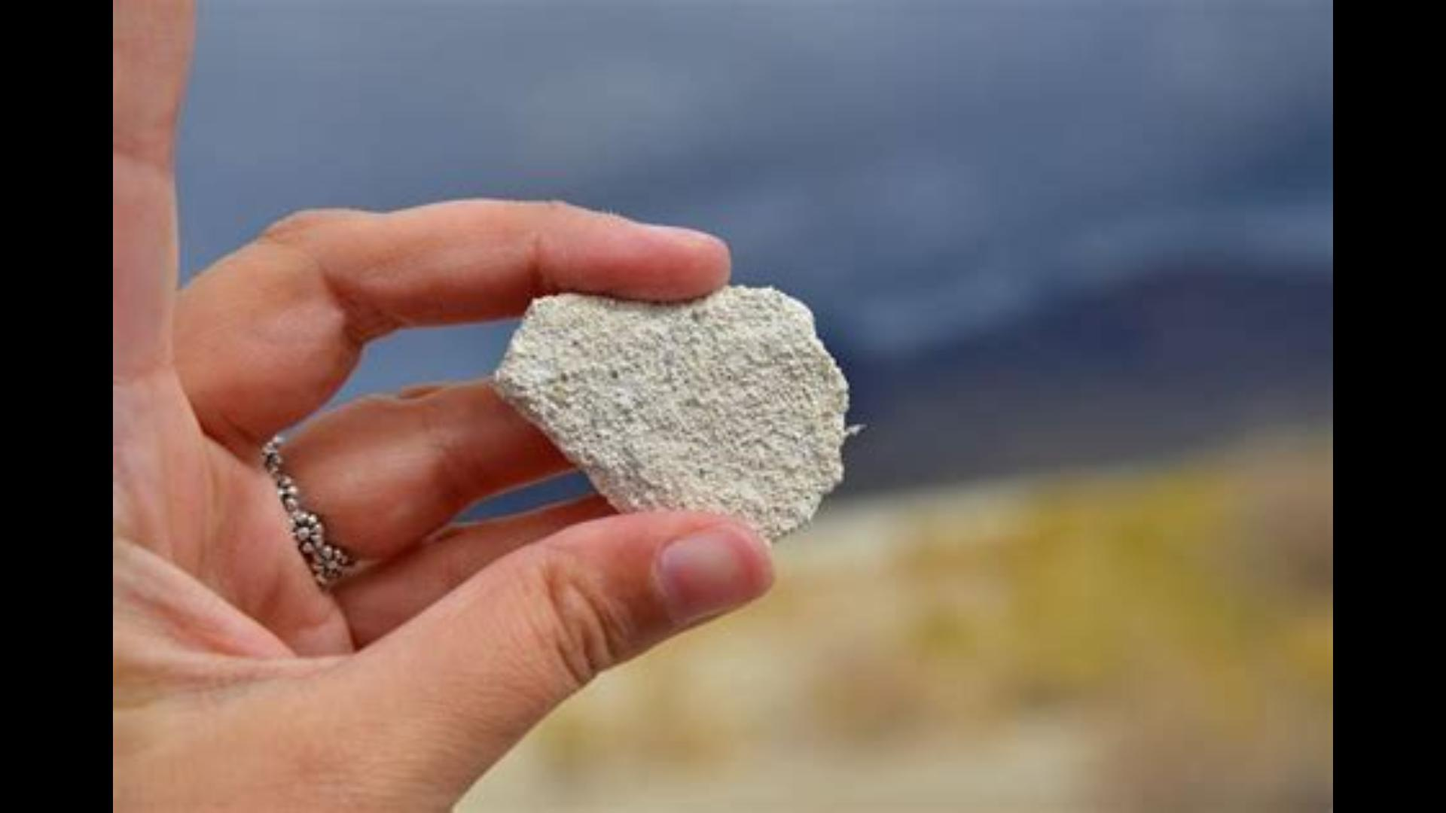rock: (494, 286, 847, 535)
